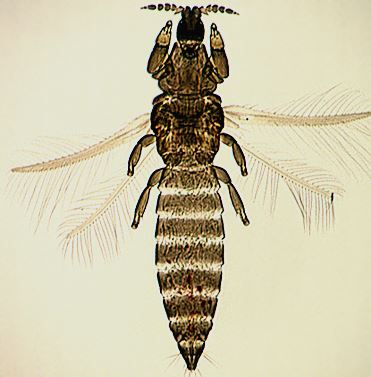Thripidae: (4, 1, 371, 373)
